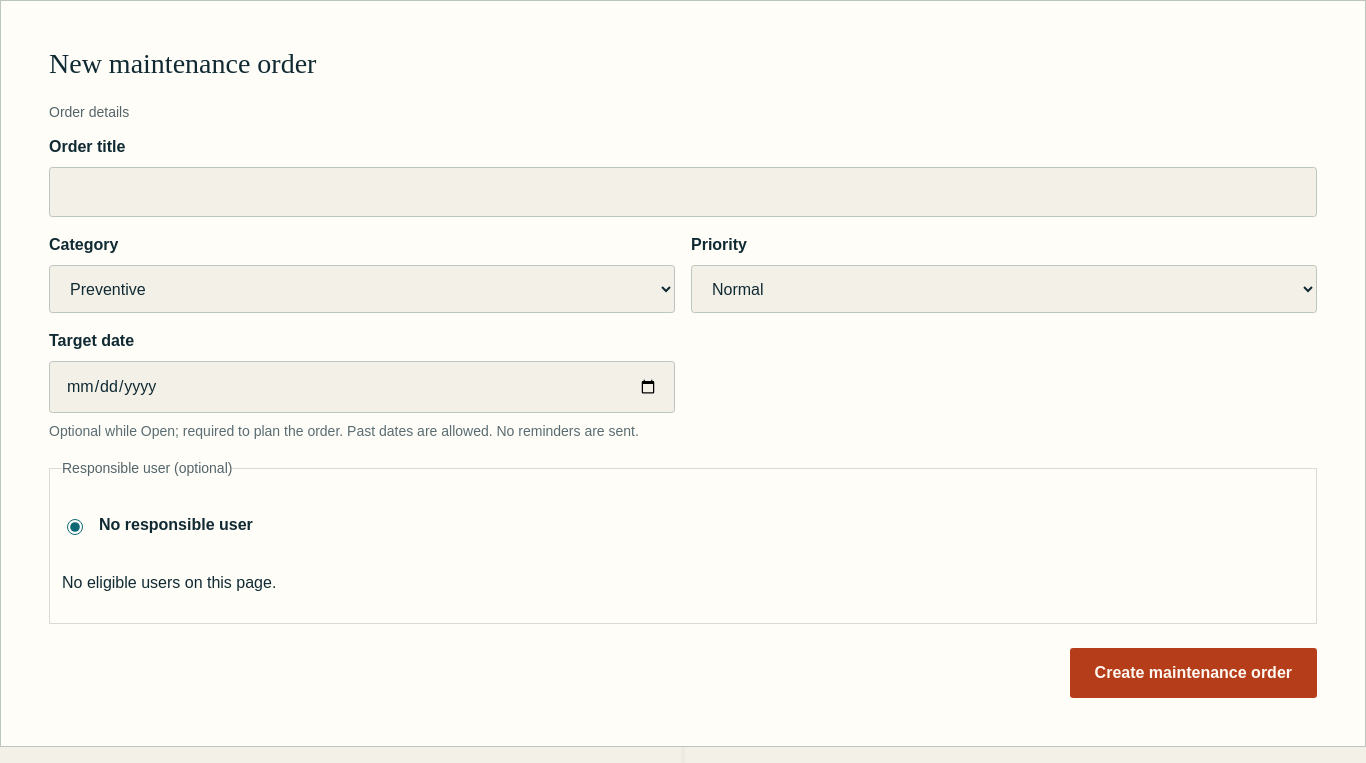
Scenario: does not unlock another creation after a newer recovery read is forbidden
Type "Inspect uncertain work" into the field labelled "Order title". click: point(683, 192)
box: [49,167,1317,217]
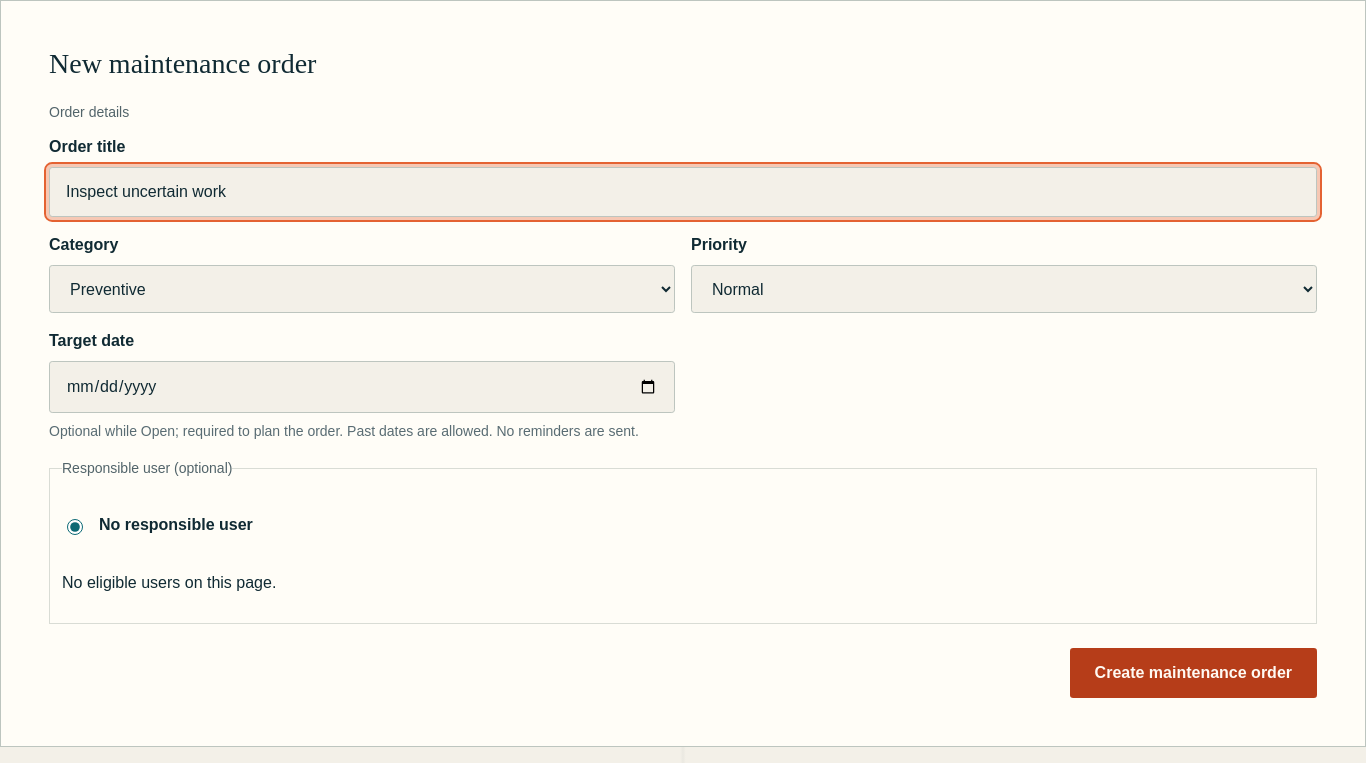
Click the button "Create maintenance order". click: point(1193, 673)
box: [1070,648,1317,698]
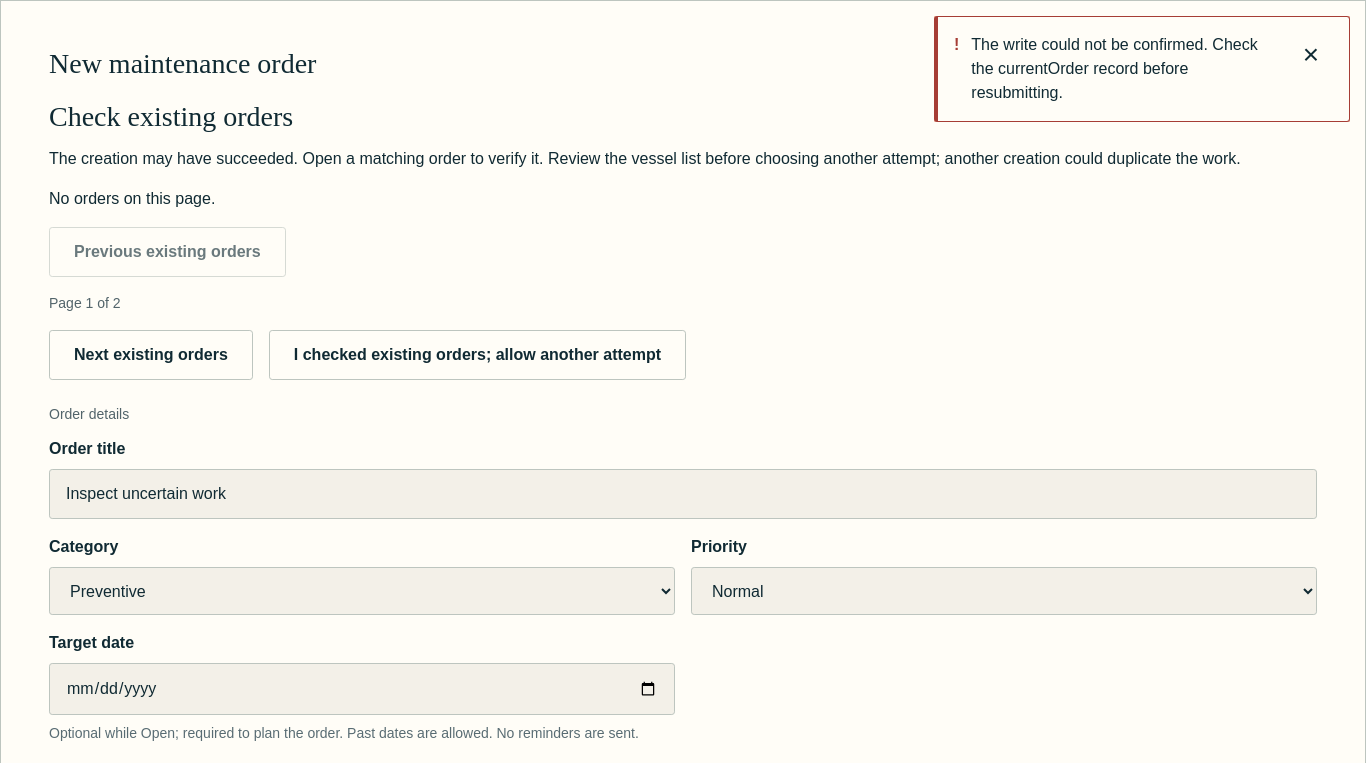
Click the button "Next existing orders". click: point(151, 355)
box: [49,330,253,380]
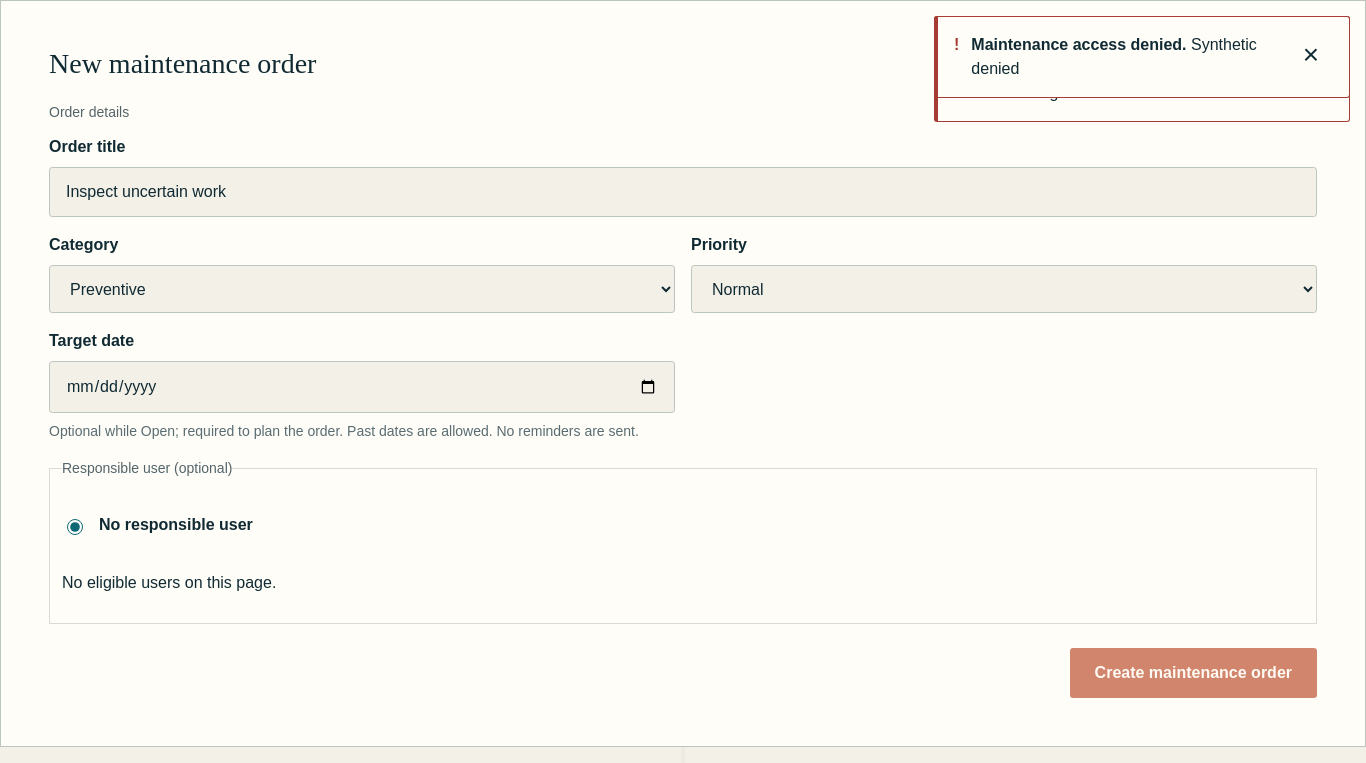
Expected: the button "Create maintenance order" is disabled, [1070,648,1317,698]
Expected: the text "Maintenance access denied." is shown, [971,36,1186,53]
Expected: the button "I checked existing orders; allow another attempt" is gone
